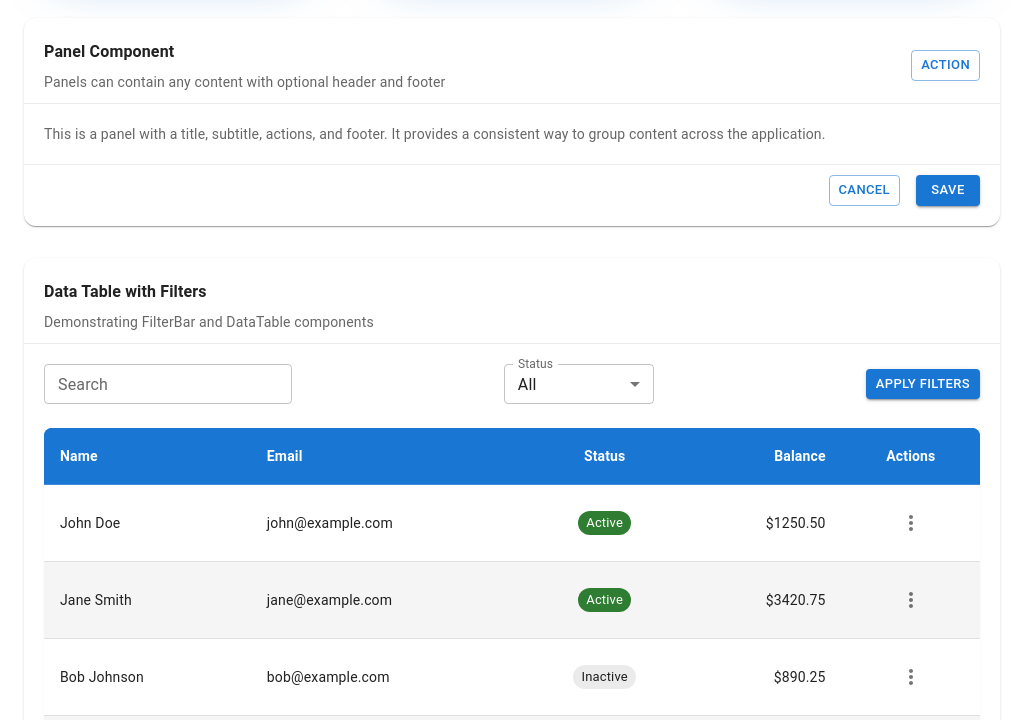
it: ComponentShowcase Integration › filters users by search term
(page scrolled)
Find and type in search input
In the field with placeholder "Search by name or email": (168, 384) [44,364,292,404], type "Jane"
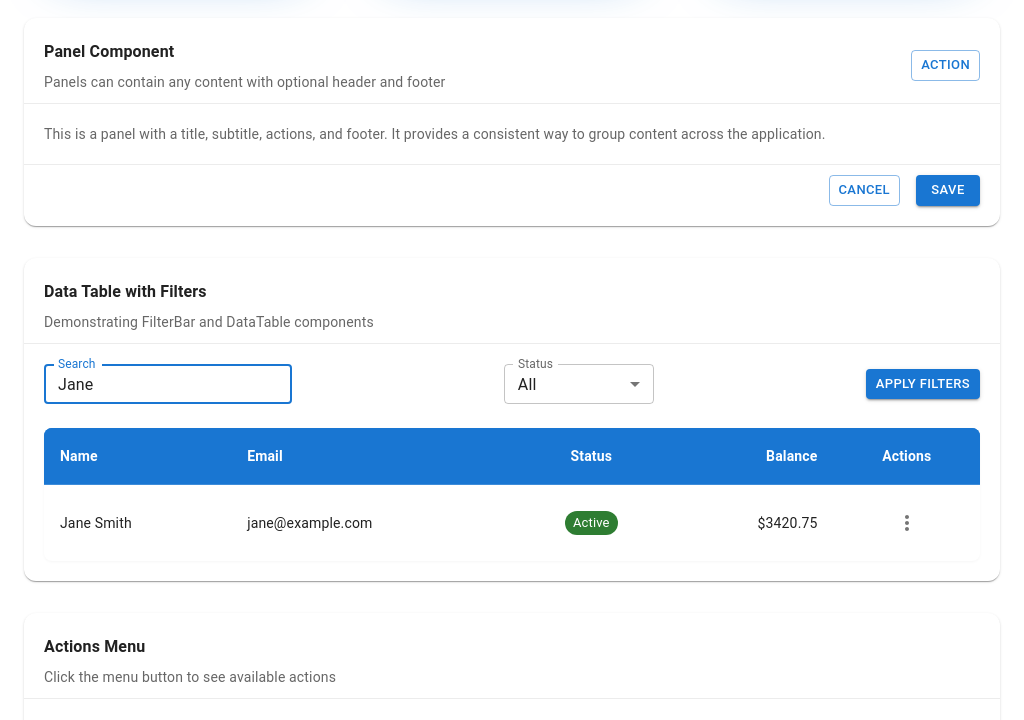
Expected: the text "Jane Smith" is shown, [44,484,231,561]
Expected: the text "John Doe" is gone
